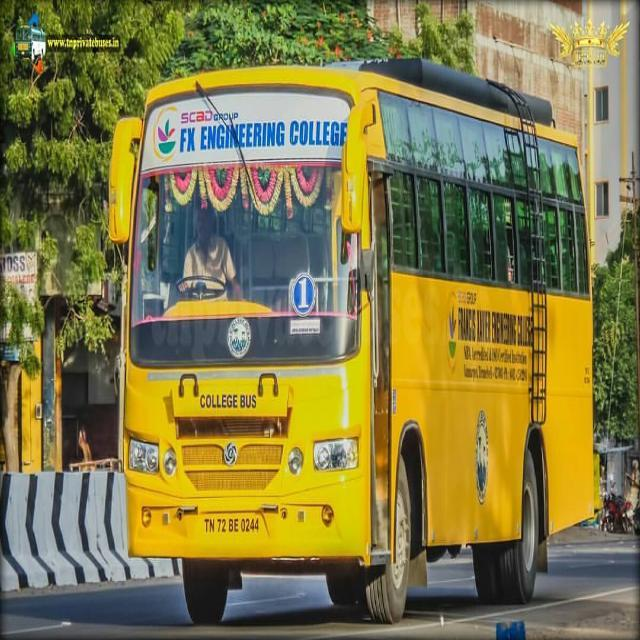Bus: (105, 49, 597, 626)
